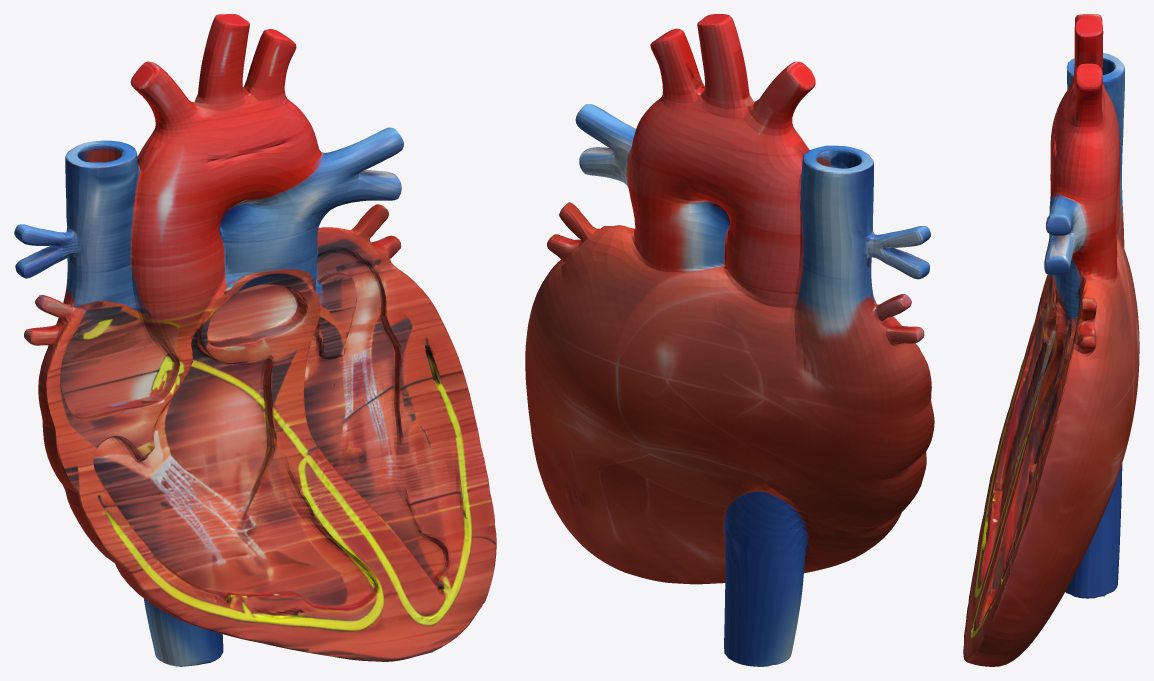
File: Heart.glb
The picture shows the model from 3 angles, left to right: view 1: azimuth 30°, elevation 25°; view 2: azimuth 150°, elevation 25°; view 3: azimuth 270°, elevation 25°; orthographic projection. The views are drawn at different scales.
Parts seen in each view (by area): view 1: Heart; view 2: Heart; view 3: Heart.
Boxes of the visible parts, x1,y1,x2,y2 form: Heart: [14, 14, 496, 666]; Heart: [525, 14, 934, 666]; Heart: [963, 14, 1139, 666].
Size of the model in its own units: 1.36 by 1.9 by 0.5221.
Materials: 1 (1 with a texture image).
